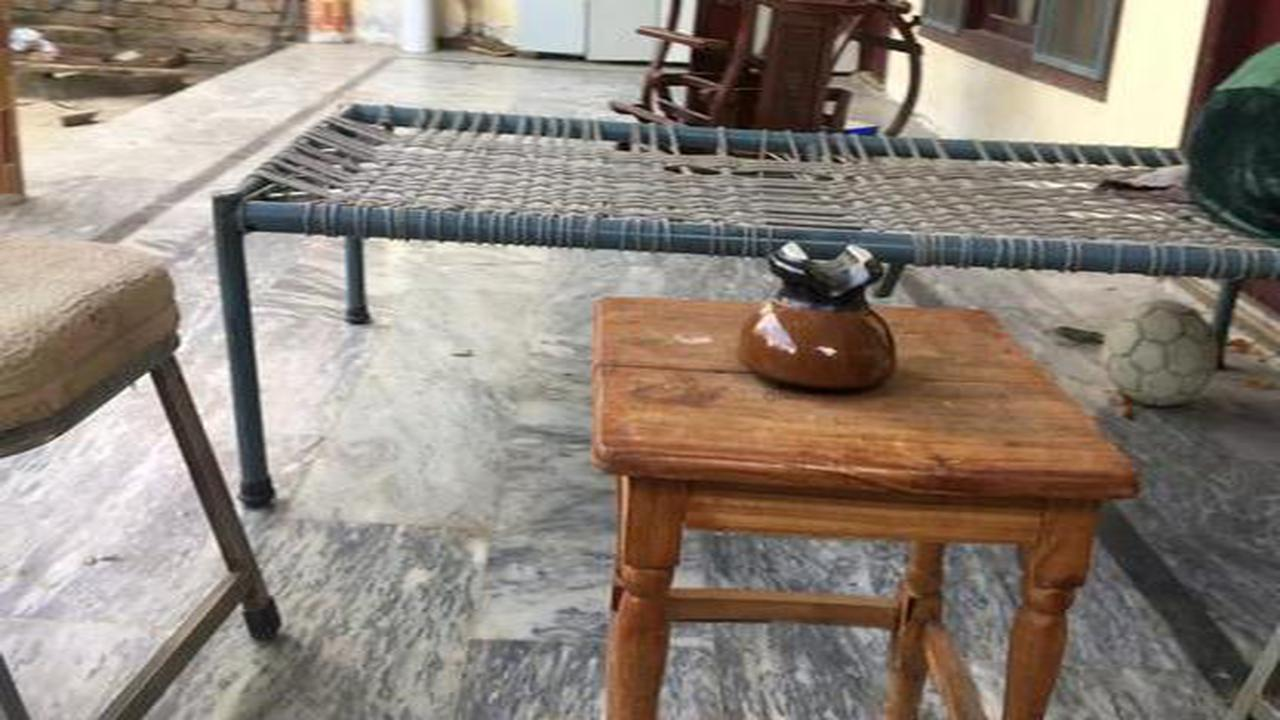insulator_pin: (733, 213, 921, 402)
